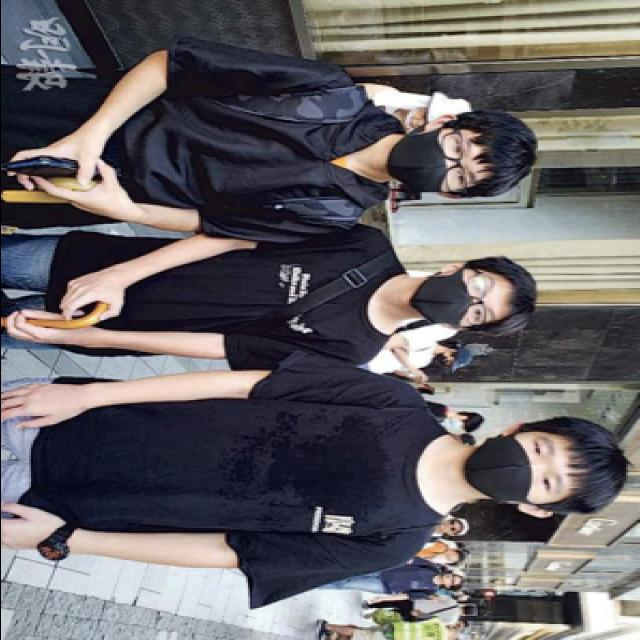mask_weared_incorrect: (396, 107, 432, 131)
with_mask: (464, 430, 567, 508), (387, 130, 481, 193), (410, 272, 498, 328), (432, 352, 458, 366), (446, 418, 468, 432)
without_mask: (436, 520, 464, 536), (440, 573, 464, 589)
